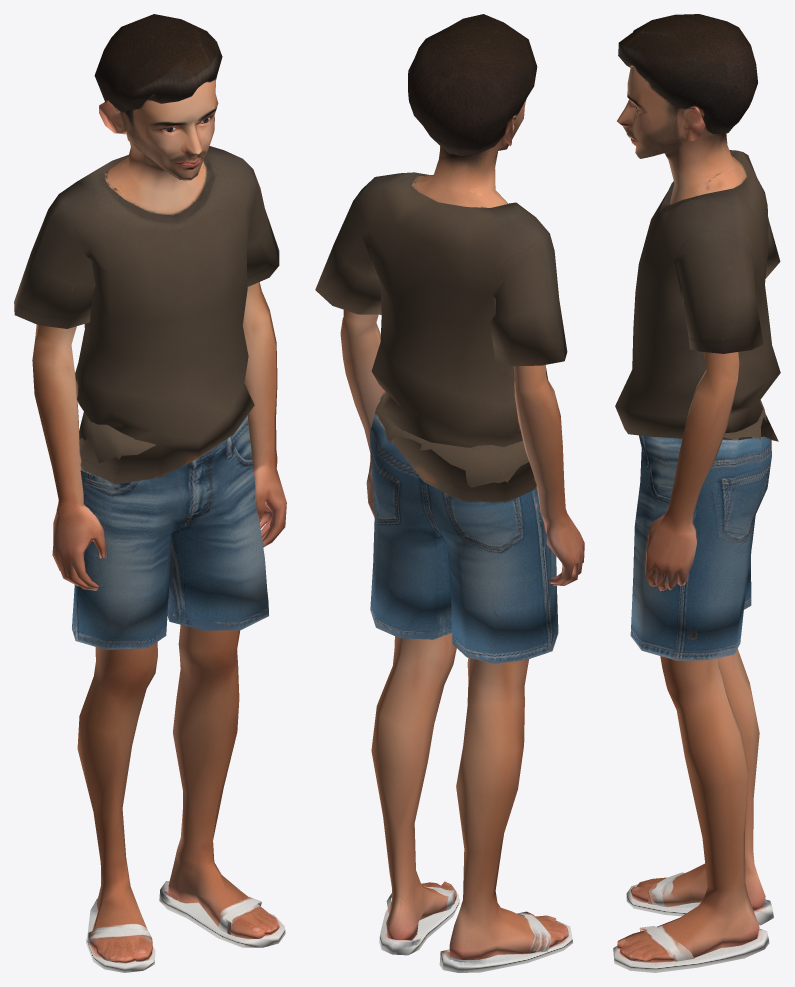
Rendered from boy.glb.
3 views of the same model, side by side, from view 1: azimuth 30°, elevation 25°; view 2: azimuth 150°, elevation 25°; view 3: azimuth 270°, elevation 25° (orthographic).
Bounding box in the file's own units: 0.4362 × 1.5 × 0.2511.
Materials: 1 (1 with a texture image).
